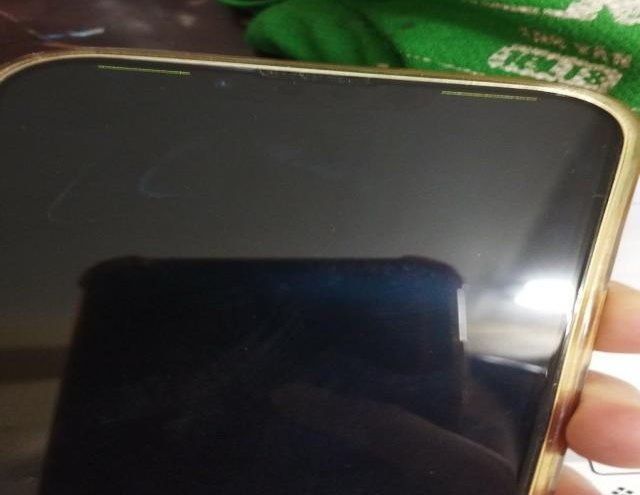scratch: (41, 131, 229, 227)
screen_defect: (437, 85, 543, 110), (85, 60, 200, 83)
